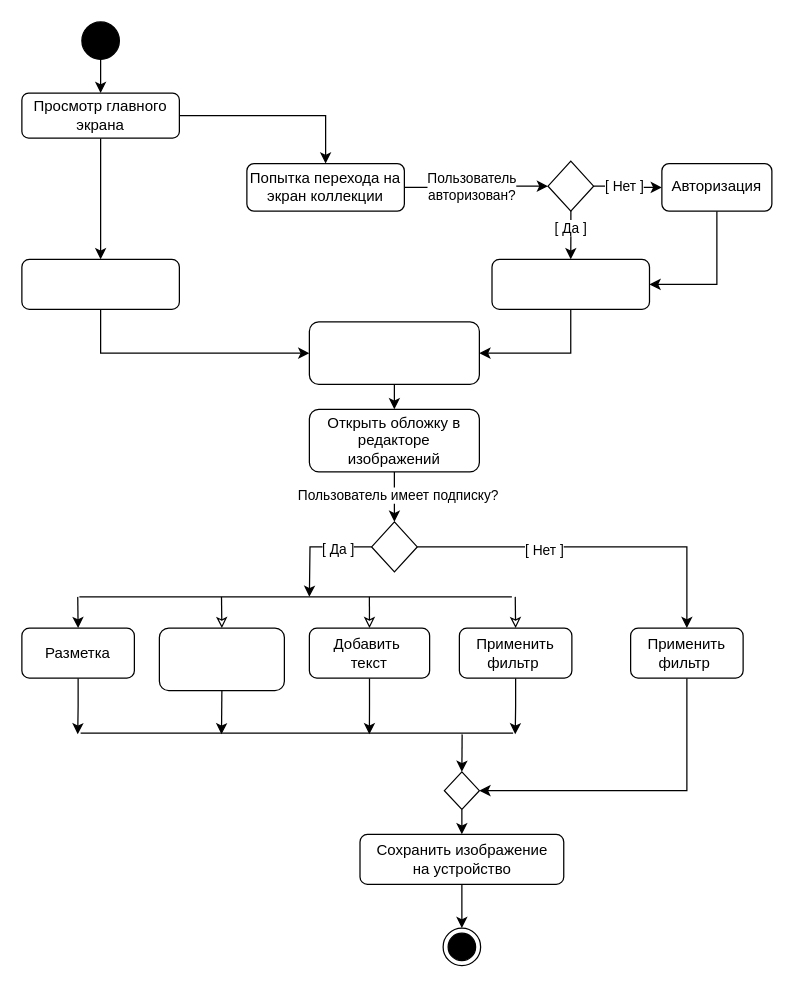
This 794x988 diagram has some shape labels left out. Here are the shapes that lost their labels. From the top down, the centre of each, then its label:
At pixel 100 283: "Переход на экран галереи работ".
At pixel 570 283: "Переход на экран коллекции".
At pixel 393 352: "Переход на экран детального просмотра обложки".
At pixel 221 659: "Добавить изображение поверх".
